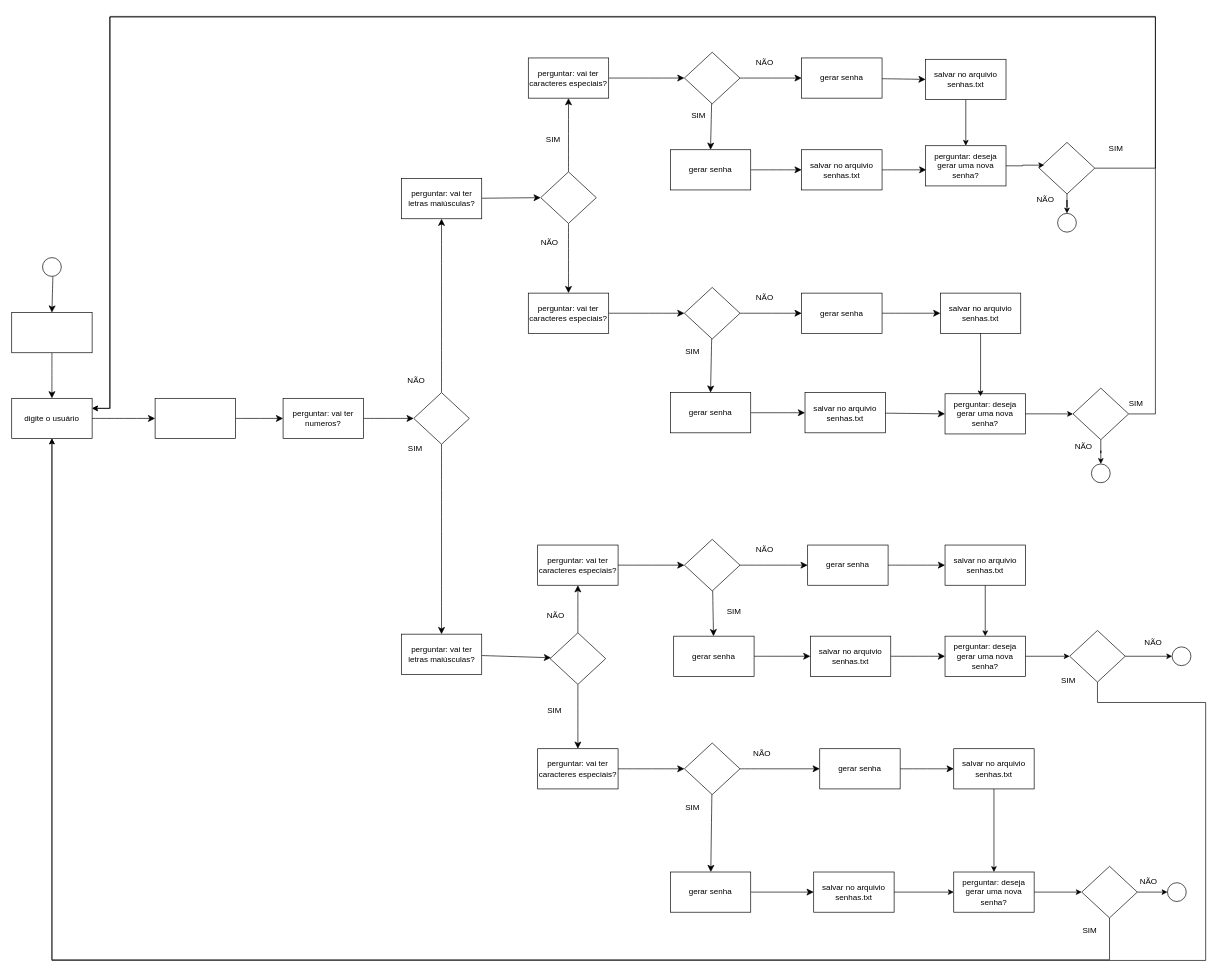
The diagram is 1223 pixels wide and 978 high, and some of its shapes have lost their labels. Each missing label, with the box of its shape:
digite o tamanho da senha: (154, 398, 236, 439)
digite um nome para qual vai ser designado a senha: (11, 312, 92, 353)
